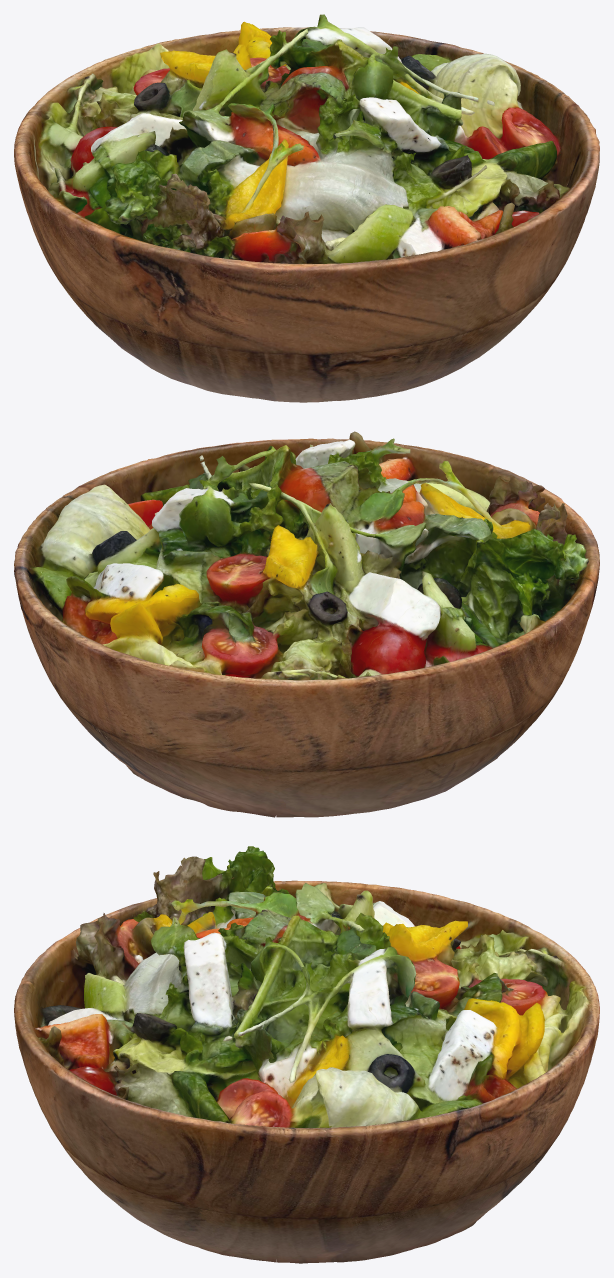
3 views of the same model, one above another, from view 1: azimuth 30°, elevation 25°; view 2: azimuth 150°, elevation 25°; view 3: azimuth 270°, elevation 25° (orthographic).
Parts seen in each view (by area): view 1: pCube2; view 2: pCube2; view 3: pCube2.
Part boxes in pixels (x1=…): pCube2: x1=14, y1=14, x2=599, y2=402; pCube2: x1=14, y1=431, x2=599, y2=817; pCube2: x1=14, y1=846, x2=599, y2=1263.
Size of the model in its own units: 0.2557 by 0.1345 by 0.2549.
1 material, 1 textured.
